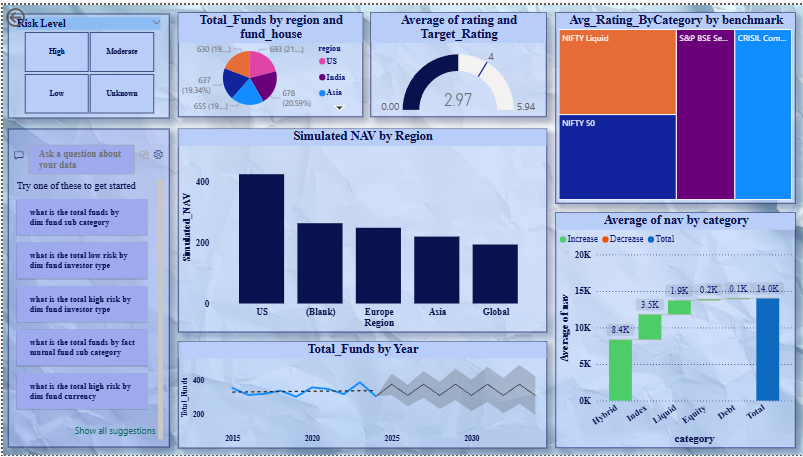

What the dashboard file says about the page in this screenshot:
{"tool":"powerbi","page":{"name":"Fund Insights","canvas":[1280,720],"ordinal":1},"visuals":[{"type":"slicer","fields":{"Values":["Fact_MutualFund.risk_level"]},"box":[8.6,13.5,258,167.5],"z":0},{"type":"treemap","fields":{"Values":["Fact_MutualFund.Avg_Rating_ByCategory"],"Details":["Fact_MutualFund.benchmark"]},"box":[884.3,12.9,384.3,305.7],"z":1000},{"type":"clusteredColumnChart","title":"Simulated NAV by Region","fields":{"Category":["Dim_FundHouse.region"],"Y":["Fact_MutualFund.Simulated_NAV"]},"box":[280,198.6,590,325.7],"z":2000},{"type":"lineChart","fields":{"Y":["Fact_MutualFund.Total_Funds"],"Category":["Dim_Date.Year"]},"box":[280,537.1,590,171.4],"z":3000},{"type":"pieChart","fields":{"Category":["Fact_MutualFund.region"],"Y":["Fact_MutualFund.Total_Funds"],"Series":["Dim_FundHouse.fund_house"]},"box":[280,12.9,295.7,167.1],"z":4000},{"type":"waterfallChart","fields":{"Category":["Fact_MutualFund.category Hierarchy.category","Fact_MutualFund.category Hierarchy.sub_category"],"Y":["Avg(Fact_MutualFund.nav)"]},"box":[884.3,331.4,384.3,377.1],"z":5000},{"type":"gauge","fields":{"Y":["Avg(Fact_MutualFund.rating)"],"TargetValue":["Fact_MutualFund.Target_Rating"]},"box":[588.6,12.9,281.4,167.1],"z":6000},{"type":"actionButton","box":[0,0,100,40],"z":7000},{"type":"qnaVisual","box":[8.6,198.1,258,509.9],"z":8000}]}

Visuals, with their boxes in screenshot pixels (x1, y1, x2, y2), scaled from the page's 1280x720 canvas onto the 803x457 screenshot:
slicer - Fact_MutualFund.risk_level: l=5, t=9, r=167, b=115
treemap - Fact_MutualFund.Avg_Rating_ByCategory x Fact_MutualFund.benchmark: l=555, t=8, r=796, b=202
"Simulated NAV by Region" clusteredColumnChart: l=176, t=126, r=546, b=333
lineChart - Fact_MutualFund.Total_Funds x Dim_Date.Year: l=176, t=341, r=546, b=450
pieChart - Fact_MutualFund.region x Fact_MutualFund.Total_Funds: l=176, t=8, r=361, b=114
waterfallChart - Fact_MutualFund.category Hierarchy.category x Fact_MutualFund.category Hierarchy.sub_category: l=555, t=210, r=796, b=450
gauge - Avg(Fact_MutualFund.rating) x Fact_MutualFund.Target_Rating: l=369, t=8, r=546, b=114
actionButton: l=0, t=0, r=63, b=25
qnaVisual: l=5, t=126, r=167, b=449
